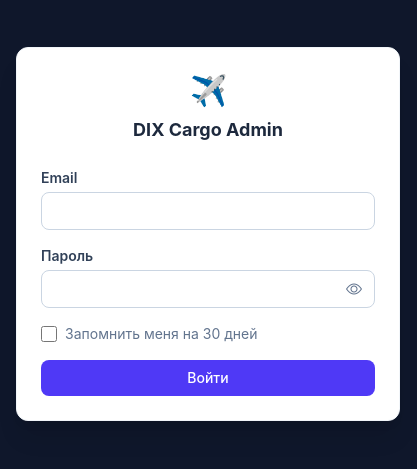
Test: LoginView › shows an auth error message on invalid credentials
Type "a@b.com" into the field at (208, 211), box [41,192,375,230]
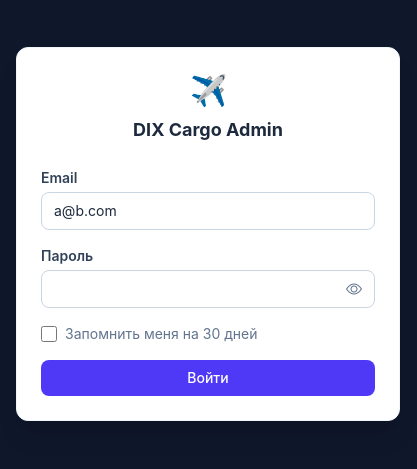
Type "wrong" into the password field at (188, 289), box [42,271,334,307]
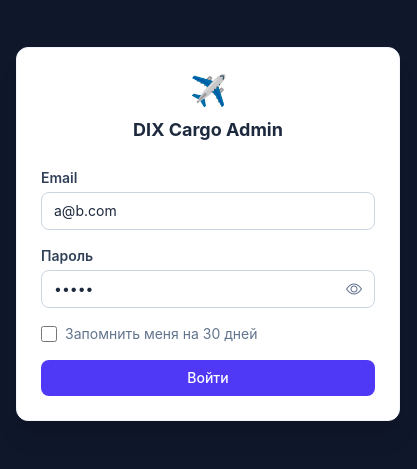
Submit the form, box [41,168,375,396]
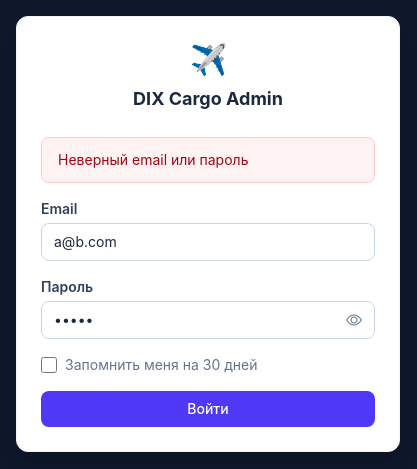
Now the text "Неверный email или пароль" is shown, box [41,137,375,183]
